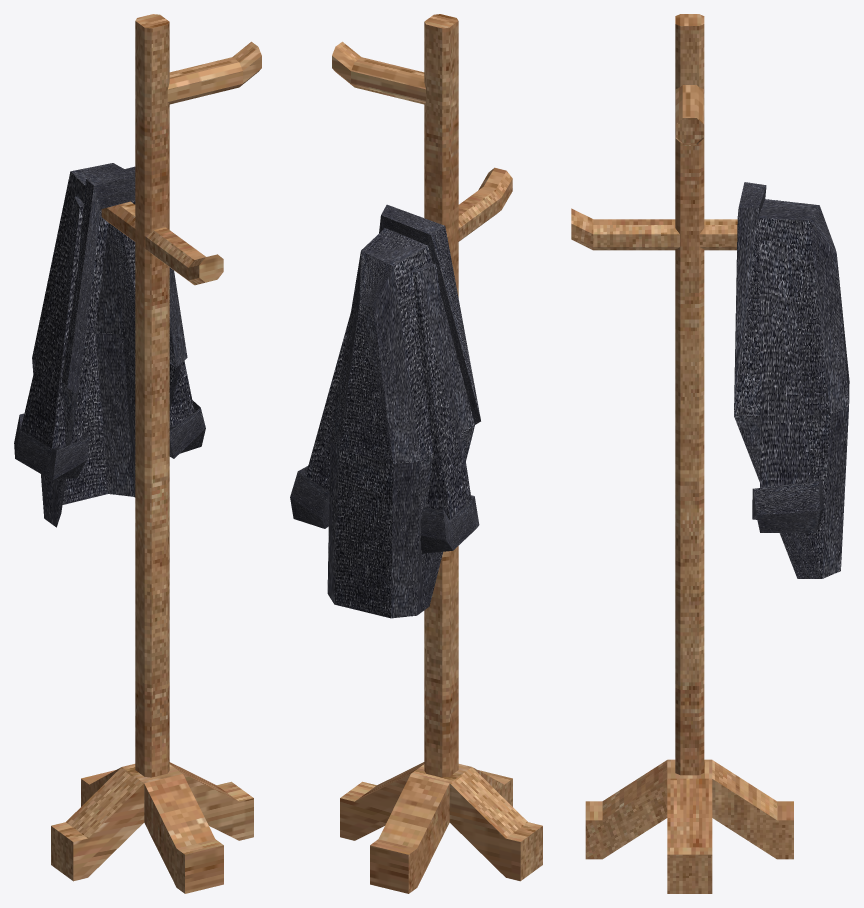
The model's file is coatrack.fbx.
The picture shows the model from 3 angles, left to right: view 1: azimuth 30°, elevation 25°; view 2: azimuth 150°, elevation 25°; view 3: azimuth 270°, elevation 25°; orthographic projection.
Visible parts, largest first — view 1: coatrack.001; view 2: coatrack.001; view 3: coatrack.001.
Boxes of the visible parts, box(x1,y1,x2,y2) form: coatrack.001: box(14, 14, 261, 893); coatrack.001: box(290, 14, 542, 893); coatrack.001: box(571, 14, 849, 893).
Bounding box in the file's own units: 227 × 936 × 284.
